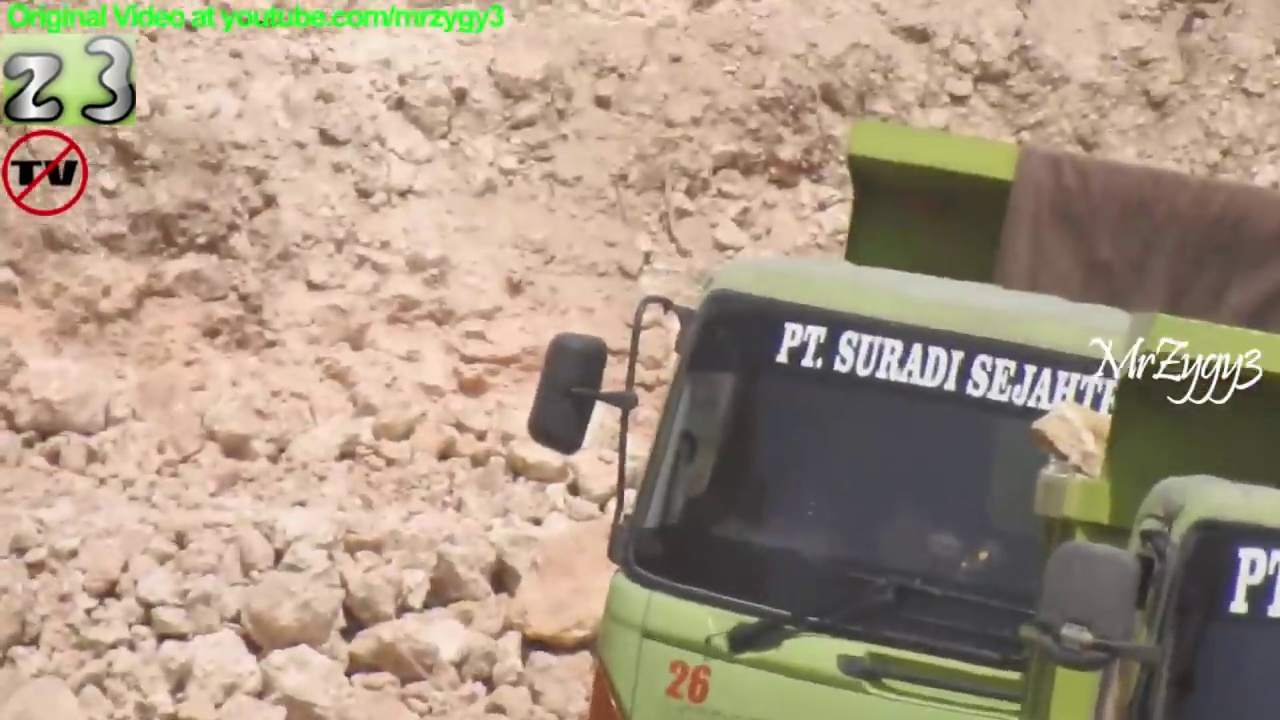truck: (523, 114, 1280, 720), (1009, 307, 1280, 720)
